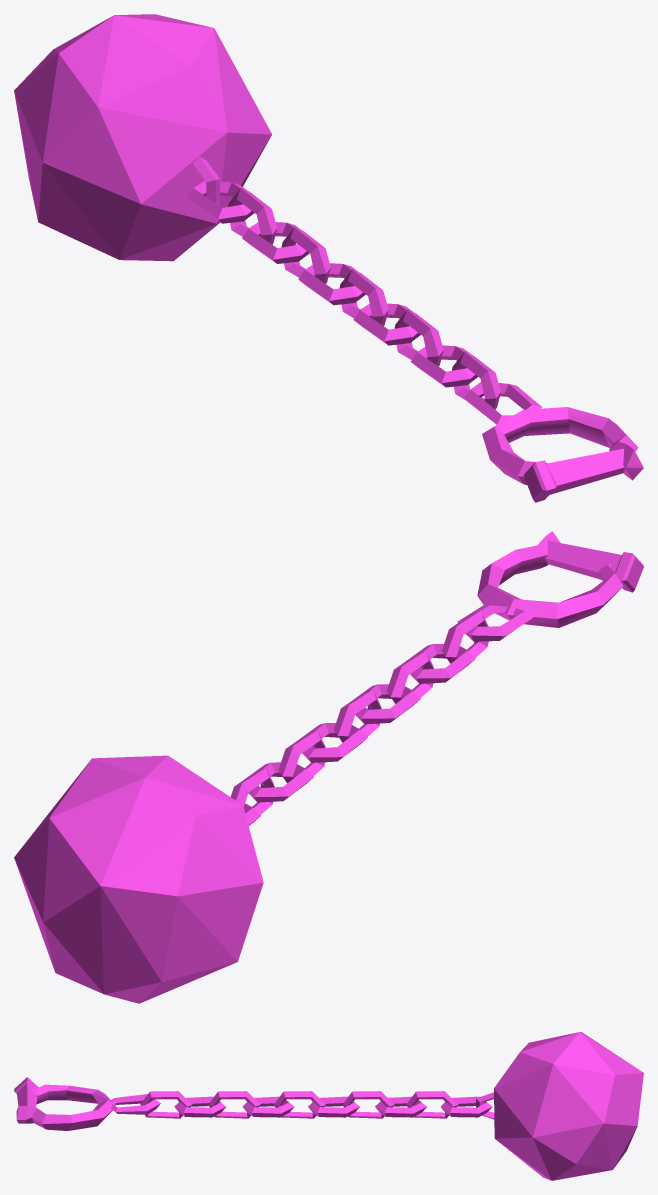
File: SM_Ball_Fantasy.fbx
3 views of the same model, one above another, from view 1: azimuth 30°, elevation 25°; view 2: azimuth 150°, elevation 25°; view 3: azimuth 270°, elevation 25° (orthographic). The views are drawn at different scales.
Parts seen in each view (by area): view 1: SM_Ball_Fantasy; view 2: SM_Ball_Fantasy; view 3: SM_Ball_Fantasy.
Part boxes in pixels (x1,y1,x2,y2): SM_Ball_Fantasy: [14, 14, 643, 502]; SM_Ball_Fantasy: [14, 531, 643, 1003]; SM_Ball_Fantasy: [14, 1032, 643, 1180].
Bounding box in the file's own units: 0.289 × 0.3009 × 1.21.
